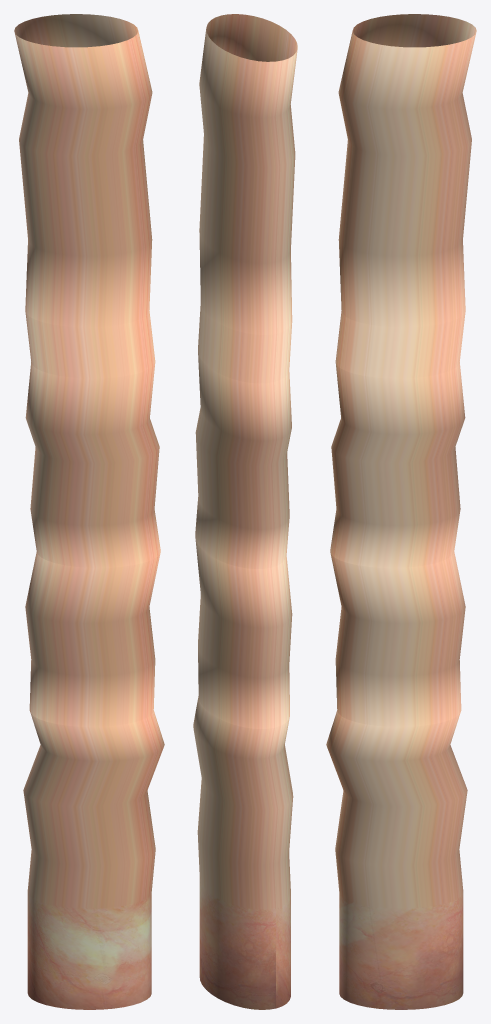
The model's file is Esophagus.fbx.
3 renders of one model, left to right at view 1: azimuth 90°, elevation 25°; view 2: azimuth 210°, elevation 25°; view 3: azimuth 270°, elevation 25°, orthographic.
Visible parts, largest first — view 1: Esophagus; view 2: Esophagus; view 3: Esophagus.
Boxes of the visible parts, x1,y1,x2,y2 form: Esophagus: (14, 14, 164, 1009); Esophagus: (193, 14, 297, 1009); Esophagus: (326, 14, 476, 1009).
Size of the model in its own units: 52.72 by 707 by 100.
1 material, 1 textured.
